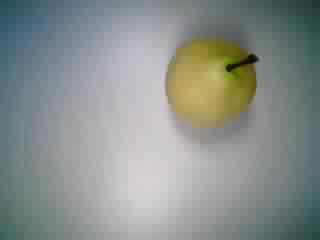pear: (153, 29, 264, 139)
